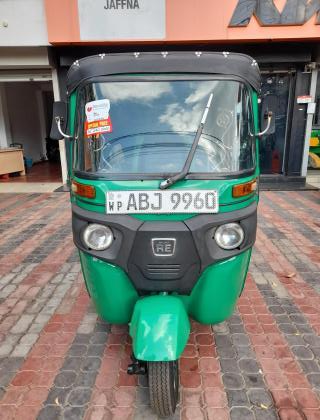threewheel: (48, 52, 277, 420)
